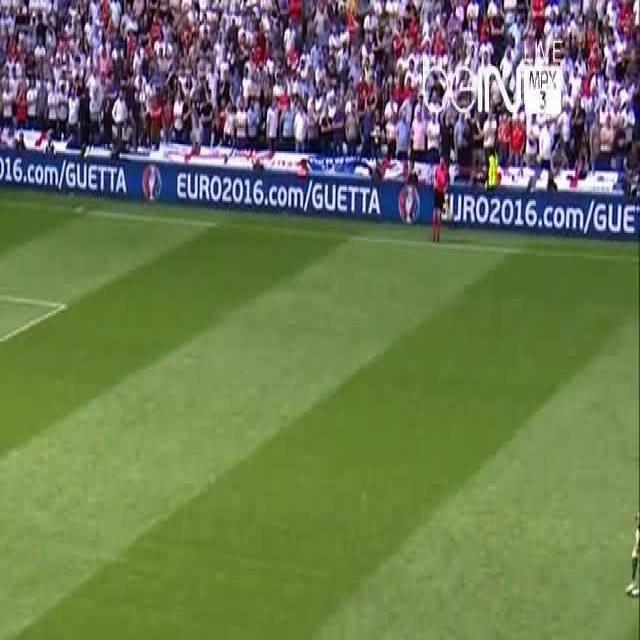player-white: (431, 157, 448, 240)
